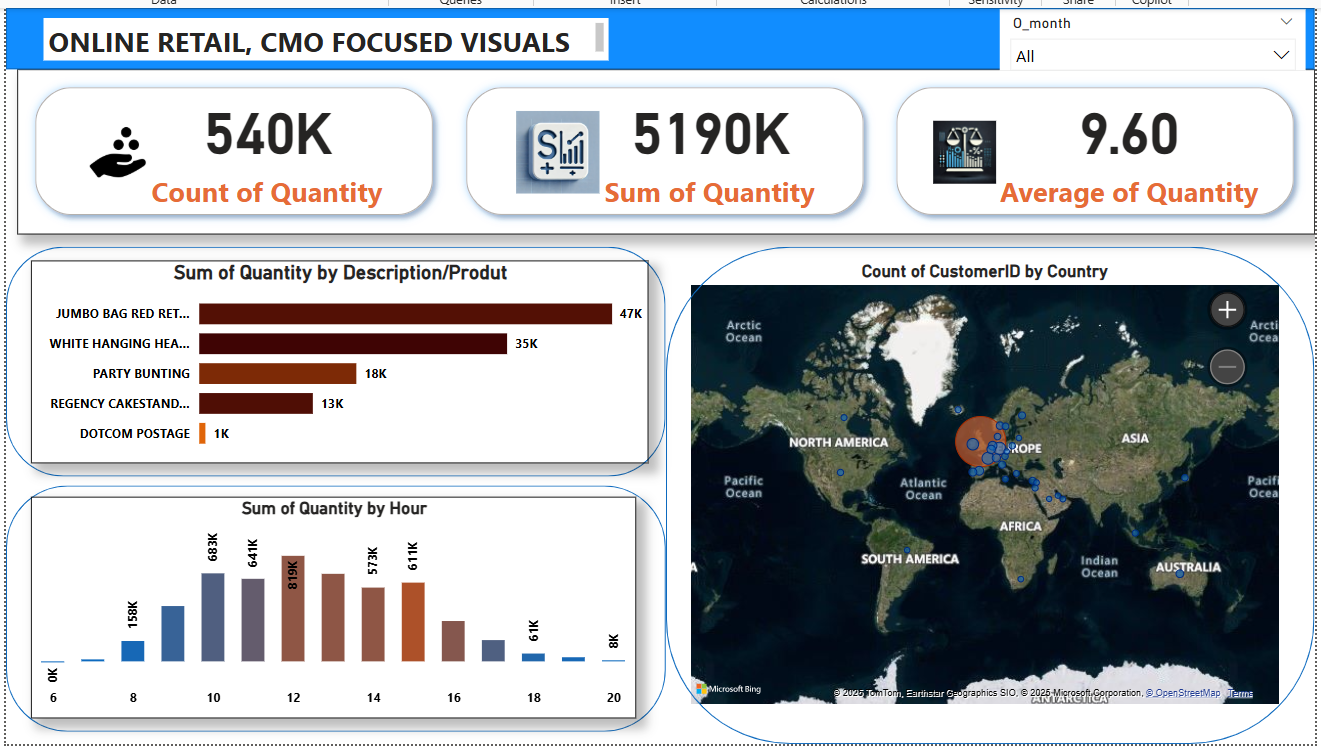

The dashboard page shown, as its layout file describes it:
{"tool":"powerbi","page":{"name":"Page 2","canvas":[1280,720],"ordinal":1},"visuals":[{"type":"cardVisual","fields":{"Data":["CountNonNull(Online Retail.Quantity)","Sum(Online Retail.Quantity)","Avg(Online Retail.Quantity)"]},"box":[11,59.9,1269.3,161.4],"z":0},{"type":"shape","box":[0,233.6,645.7,225],"z":1000},{"type":"barChart","title":"Sum of Quantity by Description/Produt","fields":{"Category":["Online Retail.Description"],"Y":["Sum(Online Retail.Quantity)"]},"box":[24.5,247,604.1,198.1],"z":2000},{"type":"map","fields":{"Size":["CountNonNull(Online Retail.CustomerID)"],"Category":["Online Retail.Country"]},"box":[665.2,247,584.5,439],"z":3000},{"type":"shape","box":[645.7,233.6,634.7,486.7],"z":4000},{"type":"shape","box":[0,467.1,645.7,240.9],"z":5000},{"type":"columnChart","fields":{"Category":["Online Retail.Hour"],"Y":["Sum(Online Retail.Quantity)"]},"box":[24.5,478.1,591.9,216.4],"z":6000},{"type":"shape","box":[0,0,1280.3,59.9],"z":7000},{"type":"textbox","box":[36.7,9.8,552.7,41.6],"z":8000},{"type":"slicer","fields":{"Values":["Online Retail.O_month"]},"box":[972.2,1.2,299.6,59.9],"z":9000}]}

Visuals, with their boxes on the page's 1280x720 design canvas (x1, y1, x2, y2). These are canvas units, not pixel positions in the 1321x752 screenshot, which may show the page scaled, cropped or inside an application window:
cardVisual - CountNonNull(Online Retail.Quantity) x Sum(Online Retail.Quantity): locate(11, 60, 1280, 221)
shape: locate(0, 234, 646, 459)
"Sum of Quantity by Description/Produt" barChart: locate(24, 247, 629, 445)
map - CountNonNull(Online Retail.CustomerID) x Online Retail.Country: locate(665, 247, 1250, 686)
shape: locate(646, 234, 1280, 720)
shape: locate(0, 467, 646, 708)
columnChart - Online Retail.Hour x Sum(Online Retail.Quantity): locate(24, 478, 616, 694)
shape: locate(0, 0, 1280, 60)
textbox: locate(37, 10, 589, 51)
slicer - Online Retail.O_month: locate(972, 1, 1272, 61)
